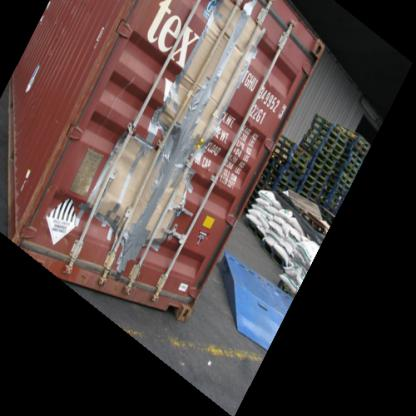Damage: (132, 7, 260, 283)
